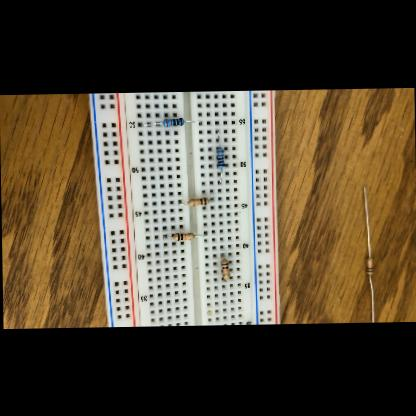breadboard: (86, 90, 280, 327)
resistor: (162, 118, 183, 127), (219, 259, 228, 280), (187, 198, 209, 206), (215, 147, 223, 168), (172, 233, 194, 240), (365, 257, 371, 275)
wire: (364, 186, 369, 256), (368, 274, 373, 322), (216, 168, 220, 184), (215, 130, 219, 146), (183, 121, 200, 124), (194, 232, 206, 236), (138, 123, 161, 125), (176, 201, 186, 204), (162, 235, 171, 238), (221, 278, 226, 282), (220, 254, 224, 258), (209, 198, 213, 200)
